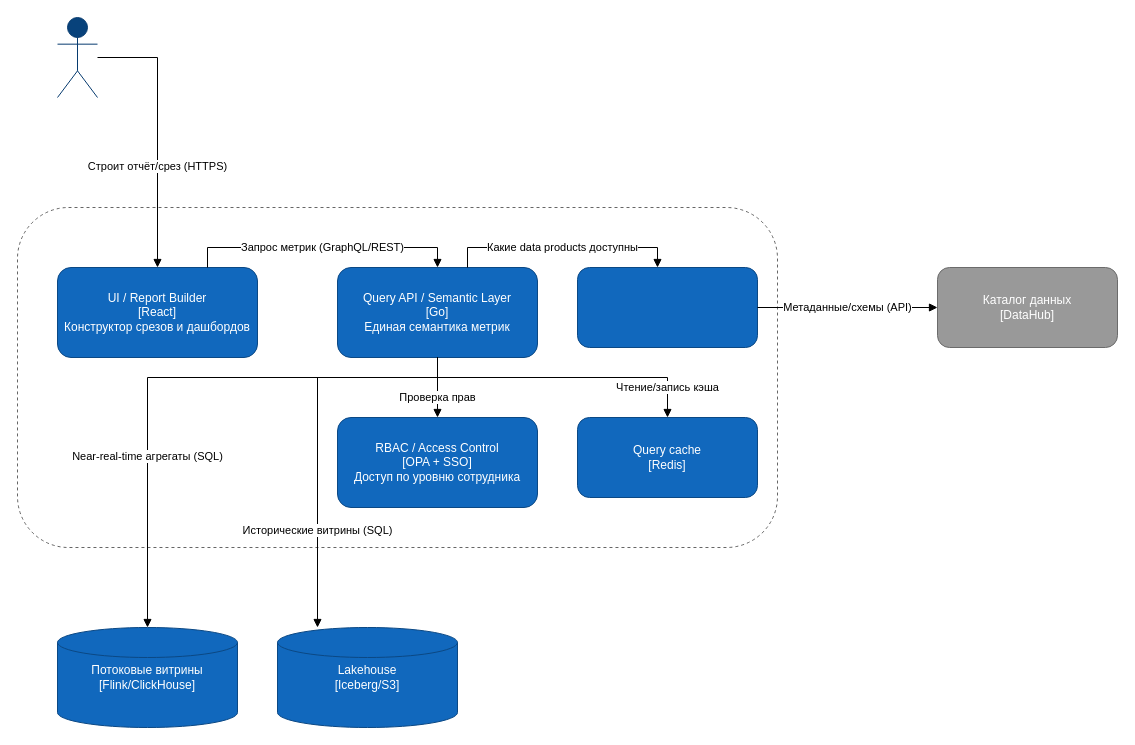
This 1135x745 diagram has some shape labels left out. The box of each missing label's shape, as (x1, y1, x2, y2) in pixels:
Discovery-клиент каталога [Go]: (576, 266, 758, 348)
Аналитик [Person]: (56, 16, 98, 98)
Портал самообслуживания: (16, 206, 778, 548)
